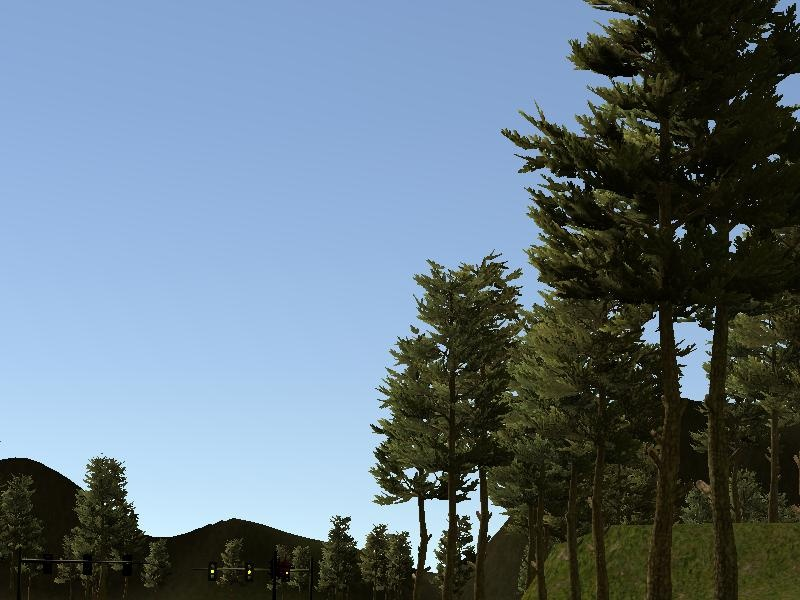Yellow: (207, 561, 218, 582), (244, 562, 254, 582)
